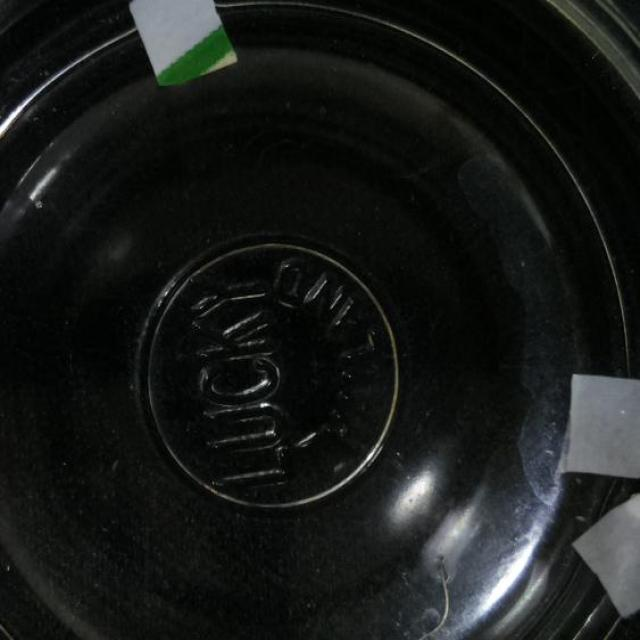fiber: (126, 0, 245, 91), (572, 468, 639, 621), (561, 371, 639, 480)
